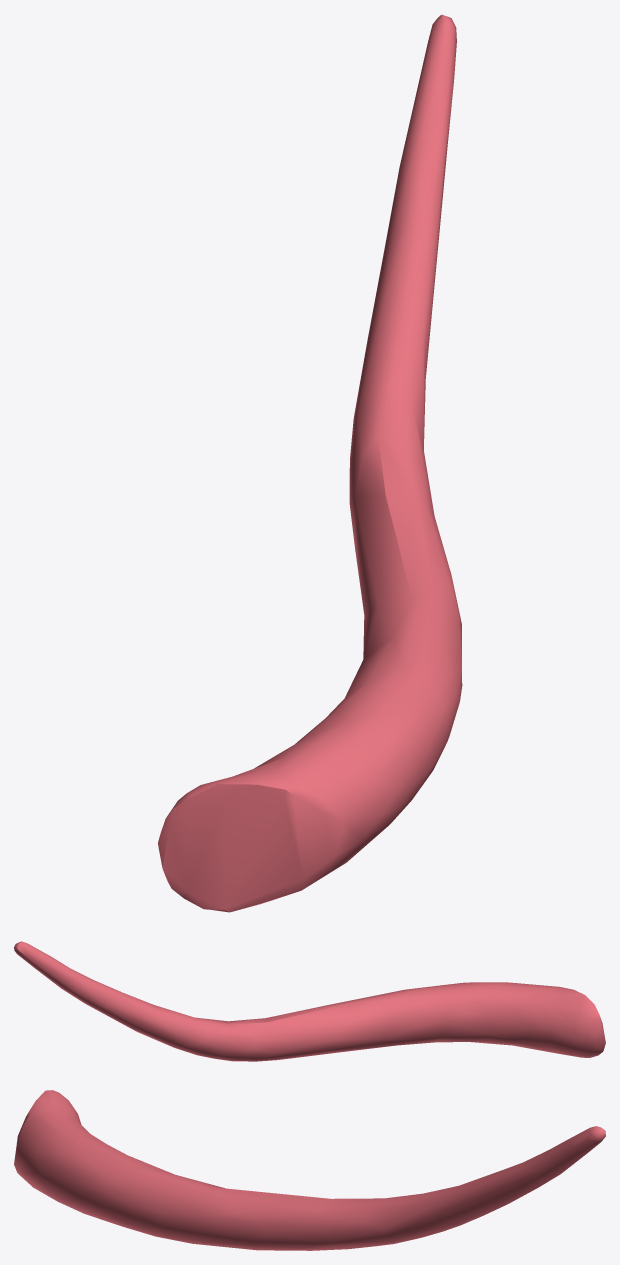
Rendered from fma8675_fj6008.glb.
The picture shows the model from 3 angles, top to bottom: view 1: azimuth 30°, elevation 25°; view 2: azimuth 150°, elevation 25°; view 3: azimuth 270°, elevation 25°; orthographic projection. The views are drawn at different scales.
Parts seen in each view (by area): view 1: FMA8675_FJ6008; view 2: FMA8675_FJ6008; view 3: FMA8675_FJ6008.
Part boxes in pixels (x1,y1,x2,y2): FMA8675_FJ6008: (158, 14, 462, 912); FMA8675_FJ6008: (14, 941, 605, 1061); FMA8675_FJ6008: (14, 1090, 605, 1250).
Size of the model in its own units: 0.0432 by 0.0221 by 0.0491.
